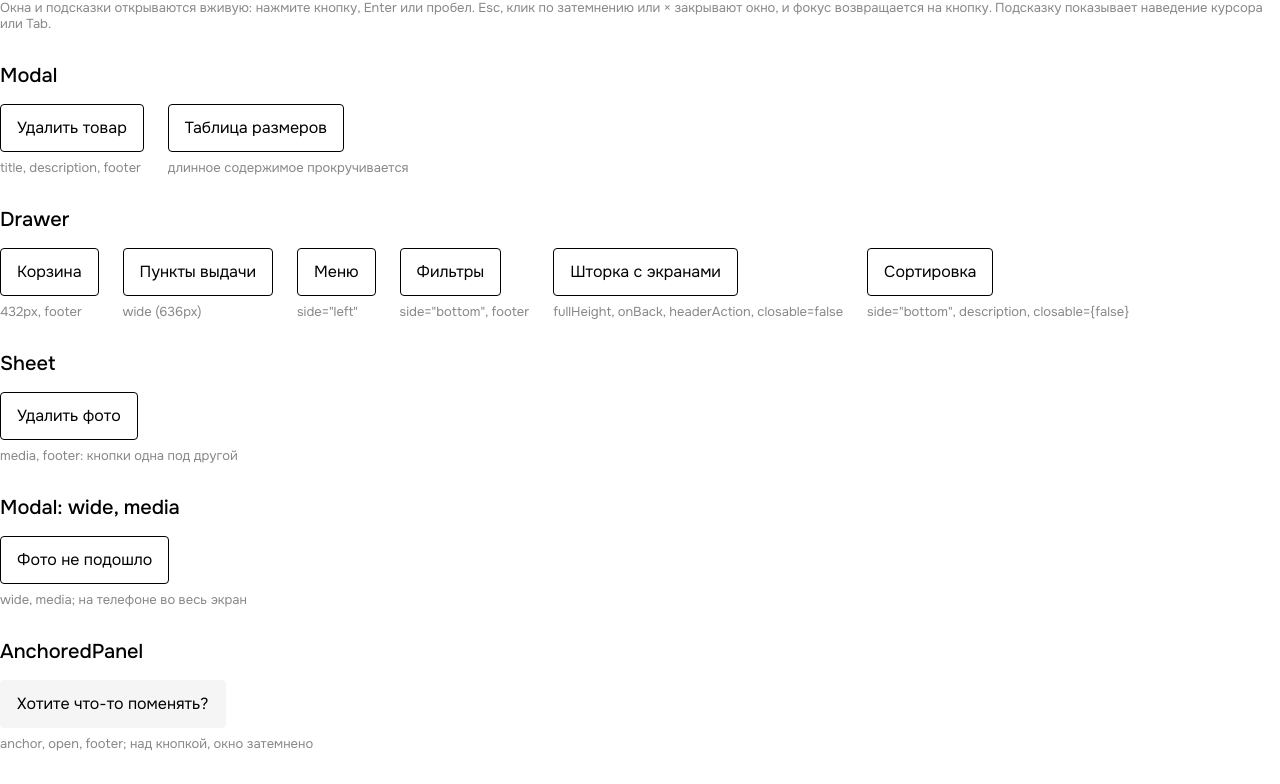
Test case: OverlaysSection › opens the delete modal with its title and closes it with "Отмена"
Click the button "Удалить товар".
click(72, 128)  # box [0,104,144,152]
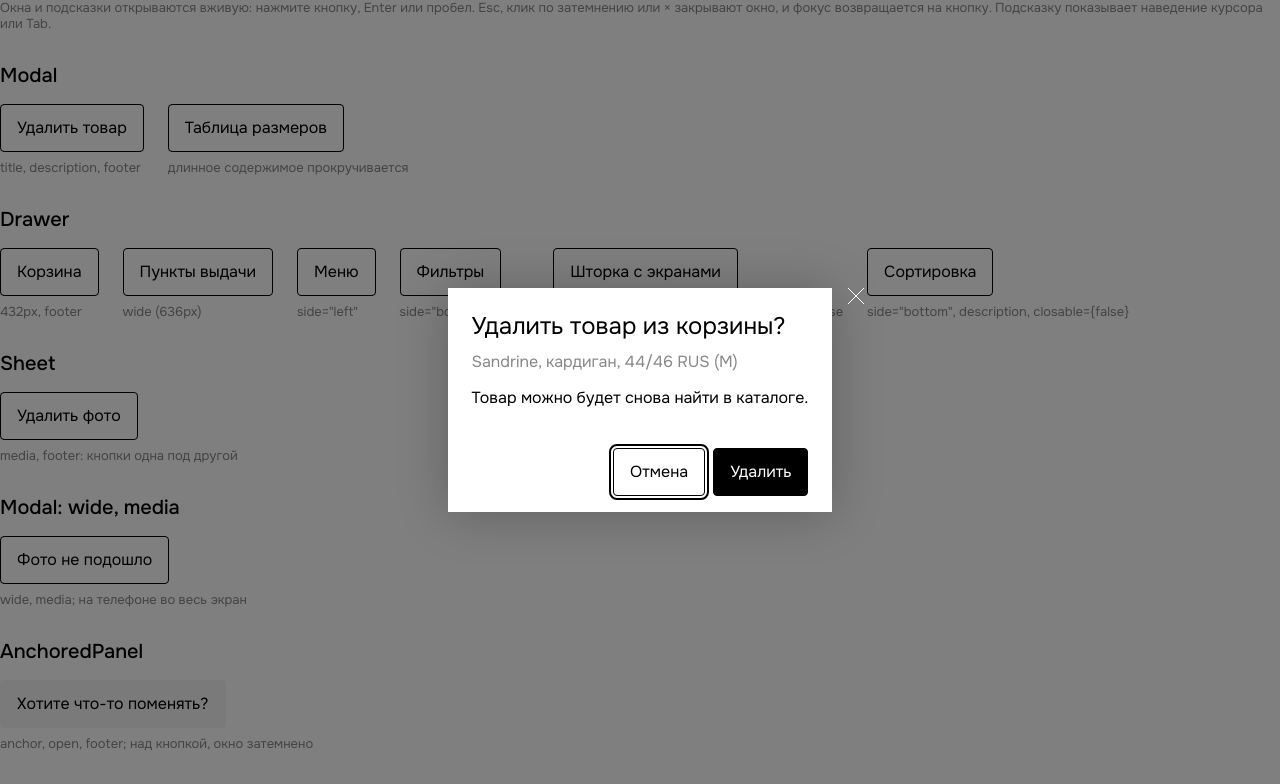
Check: the dialog "Удалить товар из корзины?" is shown, box [448,288,832,512]
Click the button "Отмена".
click(659, 472)  # box [613,448,705,496]
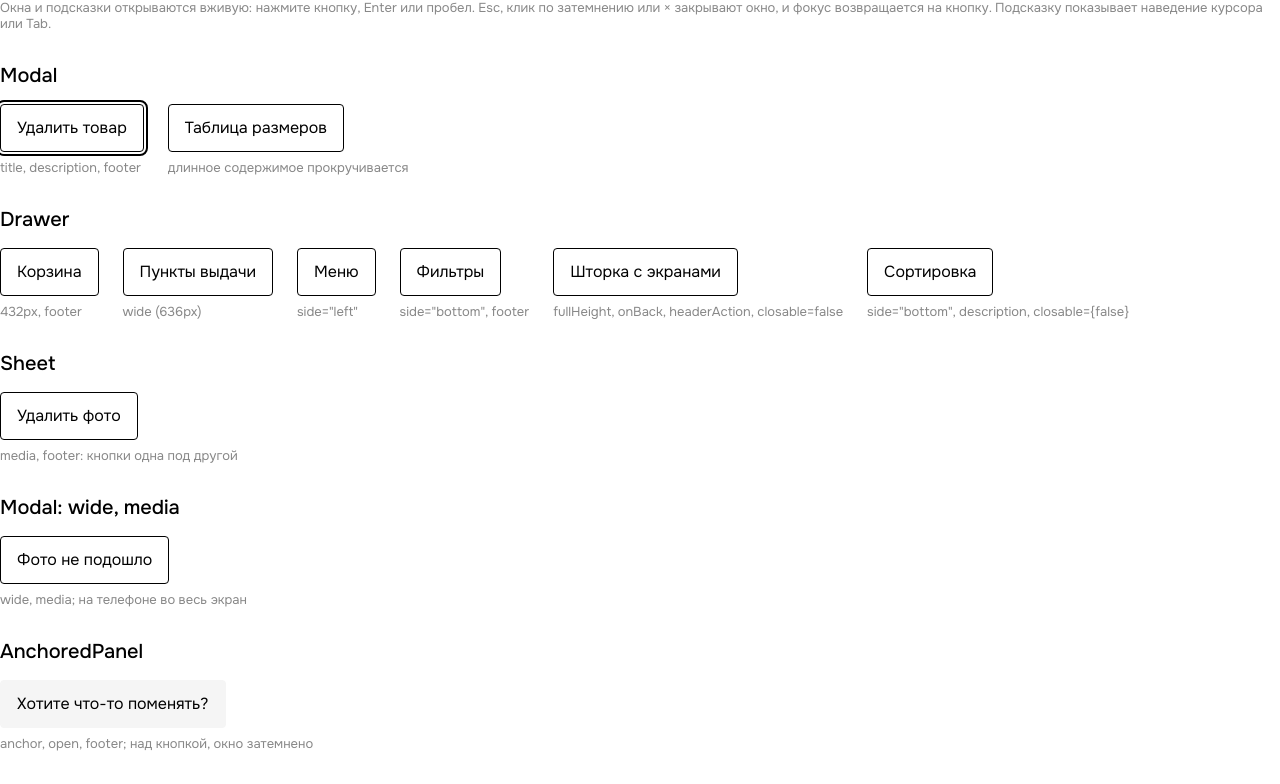
Check: the dialog is gone
